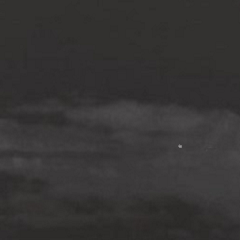Target: (177, 143, 184, 150)
